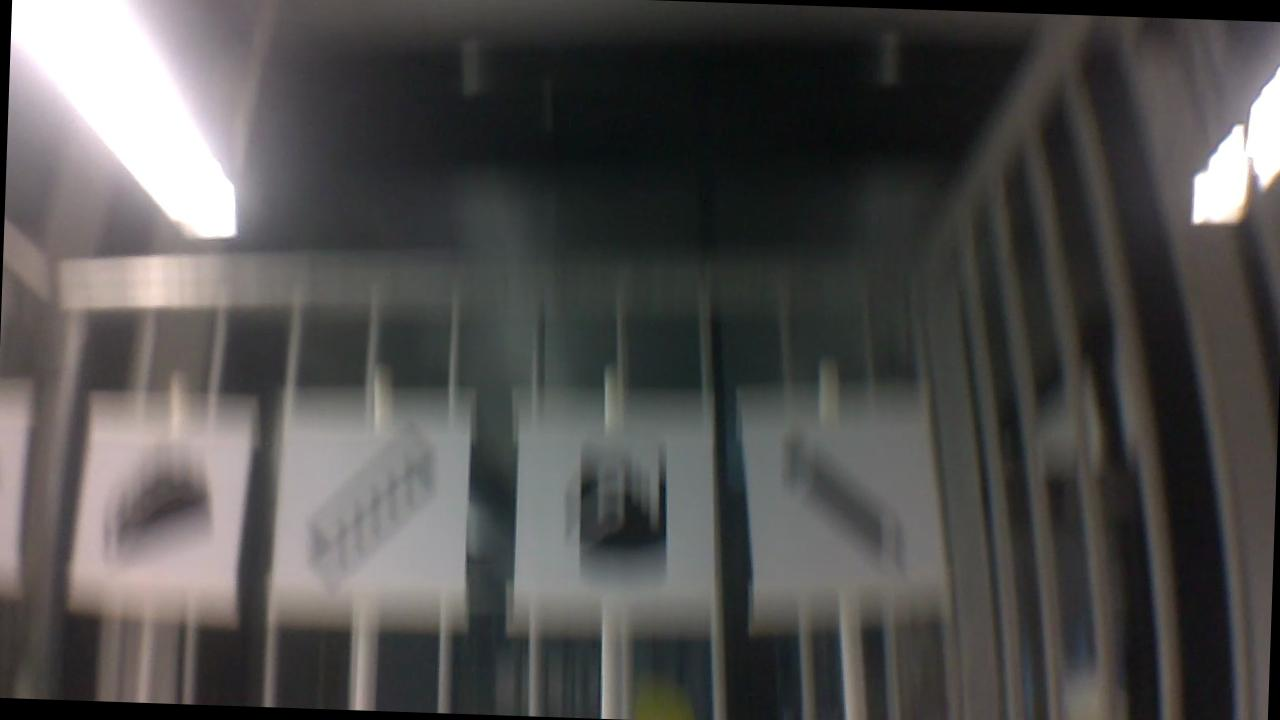bucket: (557, 436, 679, 583)
pencil: (758, 435, 912, 575)
taco: (95, 438, 220, 568)
